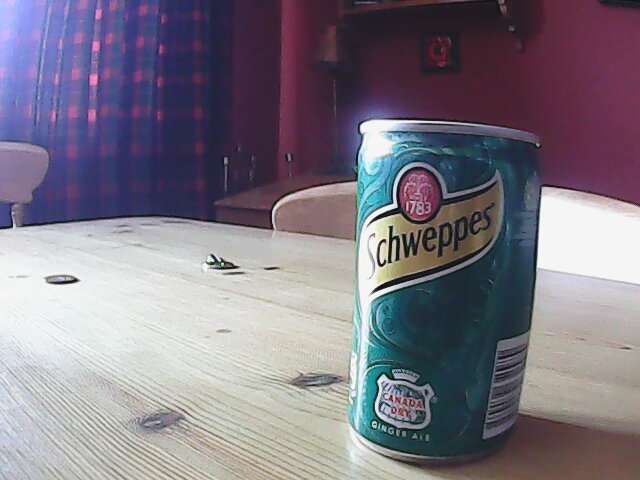Can: (346, 114, 545, 468)
Coin: (40, 271, 80, 285)
Key: (197, 250, 239, 271)
